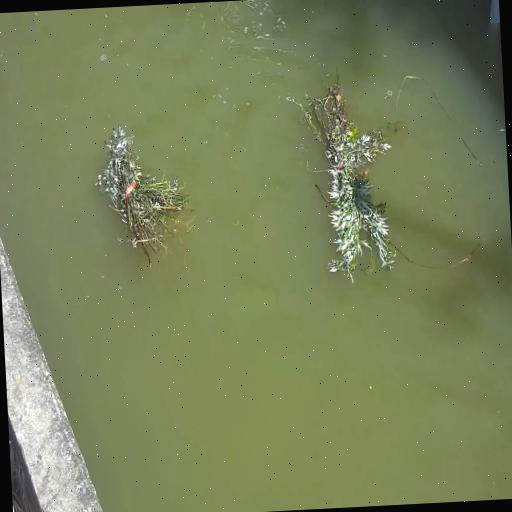twig: (292, 68, 400, 284), (94, 123, 194, 273)
